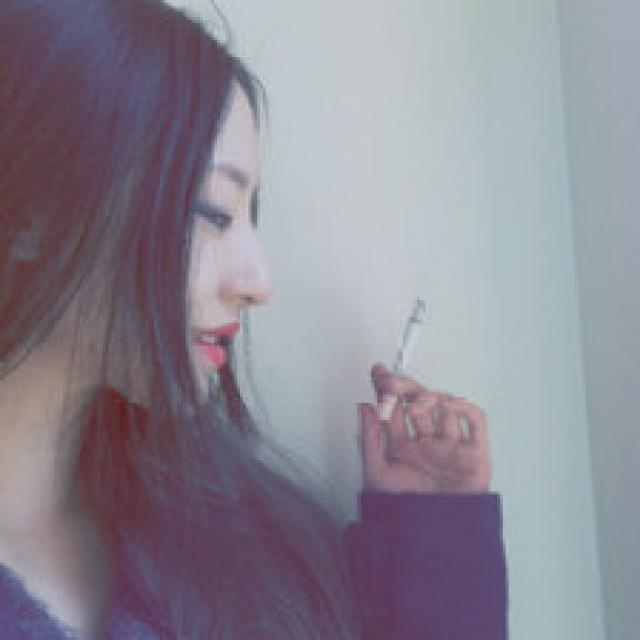smoke: (376, 297, 430, 421)
